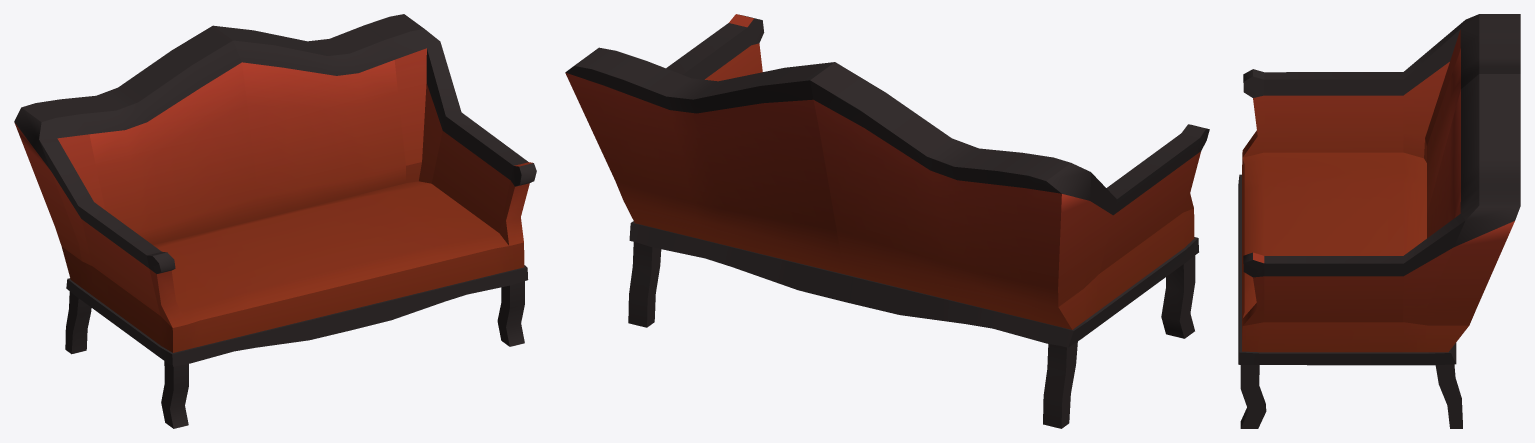
The model's file is couch 1.fbx.
The picture shows the model from 3 angles, left to right: view 1: azimuth 30°, elevation 25°; view 2: azimuth 150°, elevation 25°; view 3: azimuth 270°, elevation 25°; orthographic projection. The views are drawn at different scales.
Visible parts, largest first — view 1: couch; view 2: couch; view 3: couch.
Part boxes in pixels (box(x1,y1,x2,y2)): couch: box(14, 14, 536, 428); couch: box(565, 14, 1209, 428); couch: box(1238, 14, 1520, 428).
Size of the model in its own units: 191 by 118 by 113.
